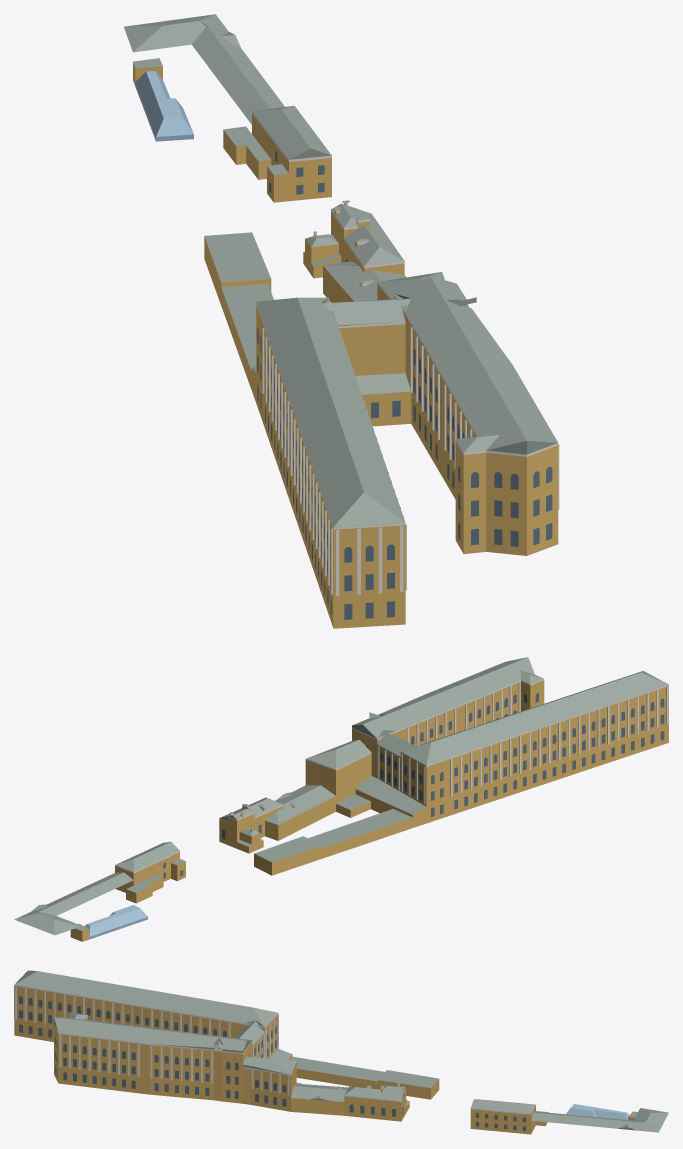
The model's file is moscow-kremlin-west-buildings.glb.
3 views of the same model, one above another, from view 1: azimuth 30°, elevation 25°; view 2: azimuth 150°, elevation 25°; view 3: azimuth 270°, elevation 25° (orthographic). The views are drawn at different scales.
Visible parts, largest first — view 1: Kremlin buildings along the west wall; view 2: Kremlin buildings along the west wall; view 3: Kremlin buildings along the west wall.
Boxes of the visible parts, box(x1,y1,x2,y2) form: Kremlin buildings along the west wall: box(124, 14, 559, 628); Kremlin buildings along the west wall: box(14, 657, 668, 941); Kremlin buildings along the west wall: box(14, 970, 668, 1134).
Bounding box in the file's own units: 117 × 26 × 258.
